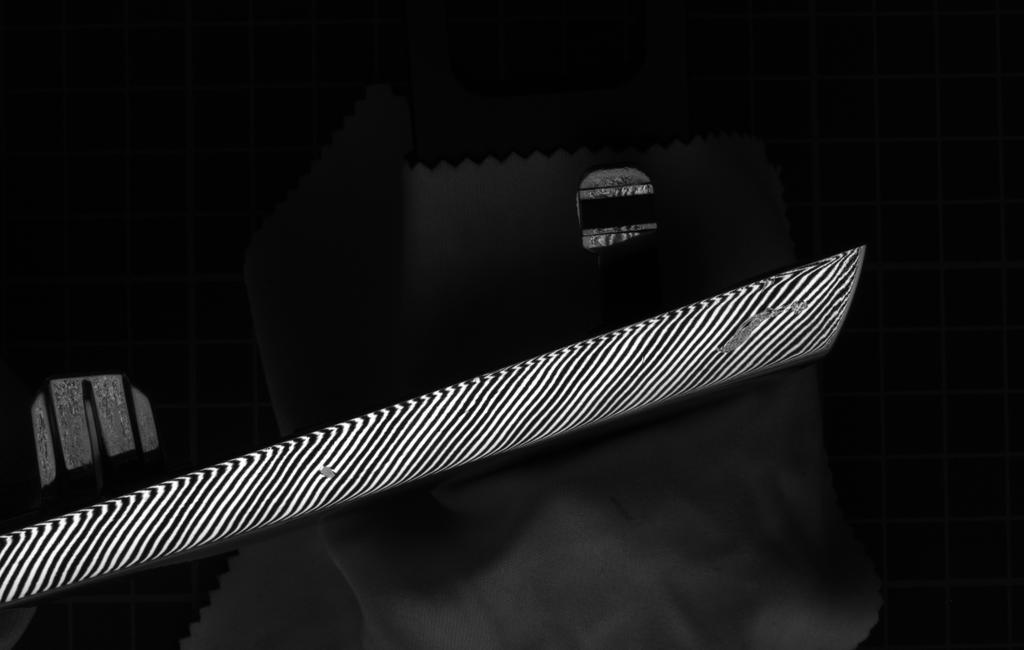Pierced: (312, 462, 344, 483)
Scratch: (715, 296, 816, 362)
